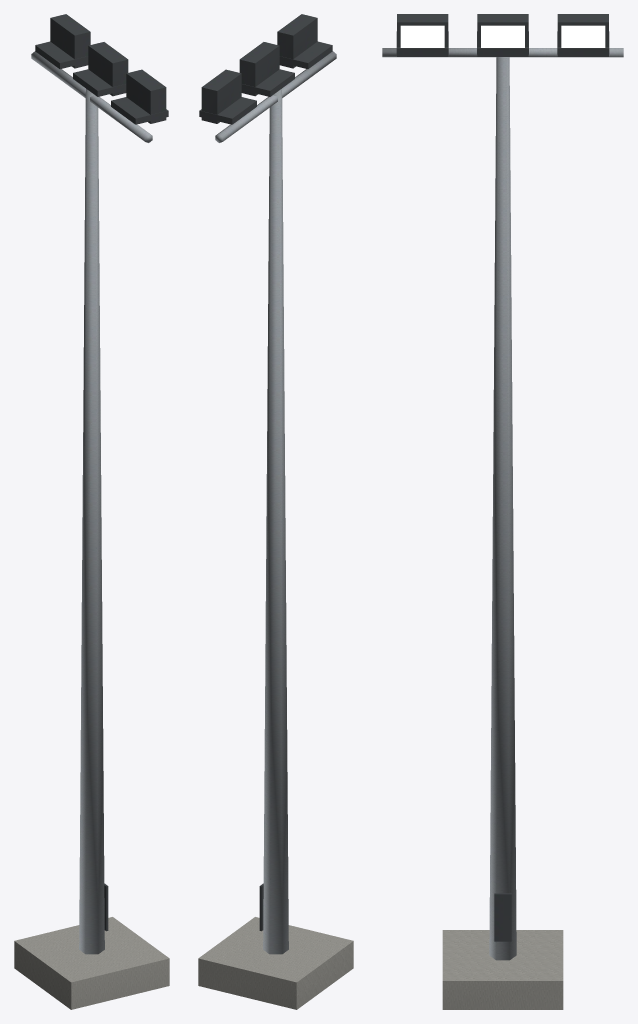
Rendered from floodlight-mast_far.glb.
The picture shows the model from 3 angles, left to right: view 1: azimuth 30°, elevation 25°; view 2: azimuth 150°, elevation 25°; view 3: azimuth 270°, elevation 25°; orthographic projection. The views are drawn at different scales.
Parts seen in each view (by area): view 1: galvanised, concrete, dark-steel; view 2: galvanised, concrete, dark-steel; view 3: galvanised, concrete, dark-steel, floodlight-emitter.
Boxes of the visible parts, left/top/right/bottom form: galvanised: left=31, top=51, right=152, bottom=954; concrete: left=14, top=917, right=169, bottom=1009; dark-steel: left=35, top=14, right=168, bottom=931; galvanised: left=215, top=51, right=336, bottom=954; concrete: left=198, top=917, right=353, bottom=1009; dark-steel: left=199, top=14, right=332, bottom=931; galvanised: left=382, top=48, right=623, bottom=960; concrete: left=442, top=930, right=563, bottom=1009; dark-steel: left=396, top=14, right=609, bottom=941; floodlight-emitter: left=400, top=25, right=605, bottom=47.
Bounding box in the file's own units: 1.5 × 13.39 × 3.
4 materials, 3 textured.
